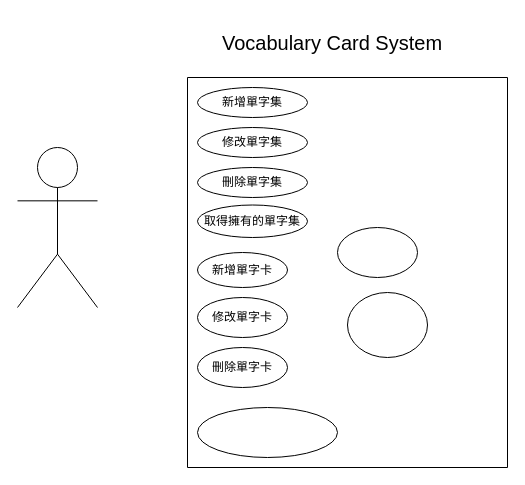
The diagram is 525 pixels wide and 485 high, and some of its shapes have lost their labels. Here are the shapes that lost their labels. From the top down, the box of each, then its label:
(16, 146, 98, 308): Actor
(336, 226, 418, 278): 讀取單字卡
(346, 292, 428, 358): 讀取單字集裡的單字卡
(196, 406, 338, 458): 移動單字卡至其他單字集
